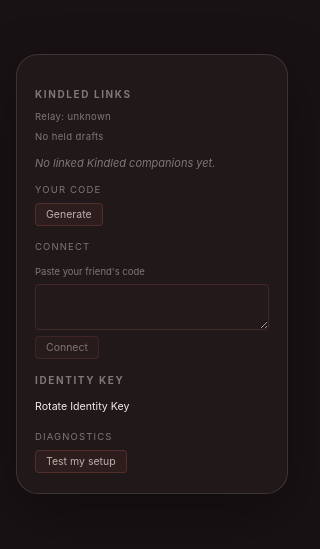
KindledLinksPanel — connect error surfacing › surfacing connectKindled rejection message inline
Type "kindled1:expired-code" into the text box named "friend's connect code". click: {"x": 152, "y": 307}
box: [35, 284, 269, 330]
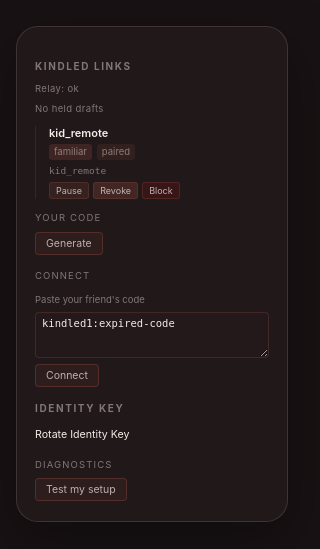
Click the button "Connect". click: {"x": 67, "y": 376}
box: [35, 364, 99, 387]
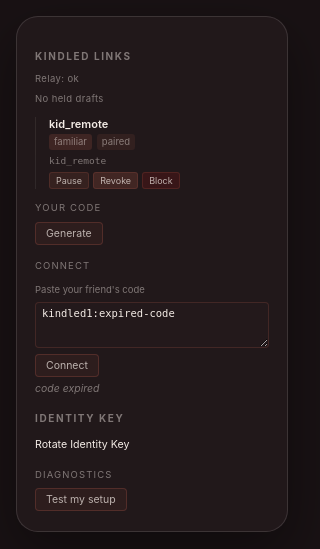
expect the text "code expired" is shown: met, box [35, 382, 100, 395]
